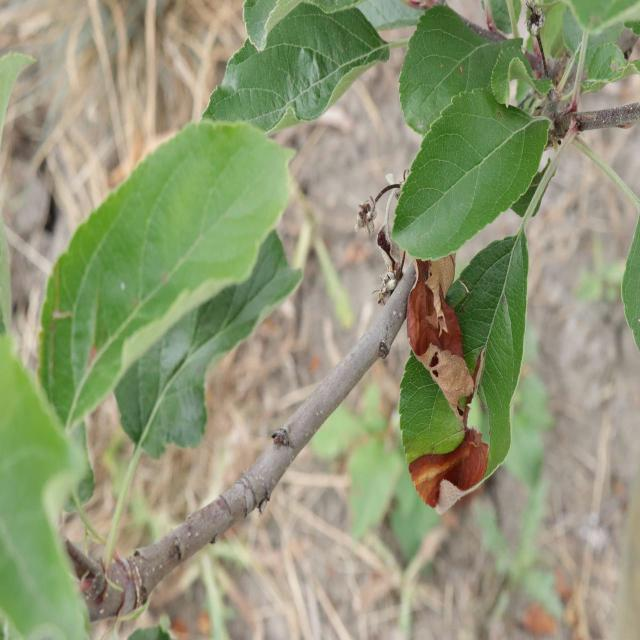-FireBlight-: (383, 243, 494, 499)
